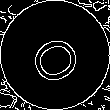O_NE: (22, 24, 88, 86)
